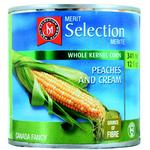corn: (12, 52, 108, 134)
